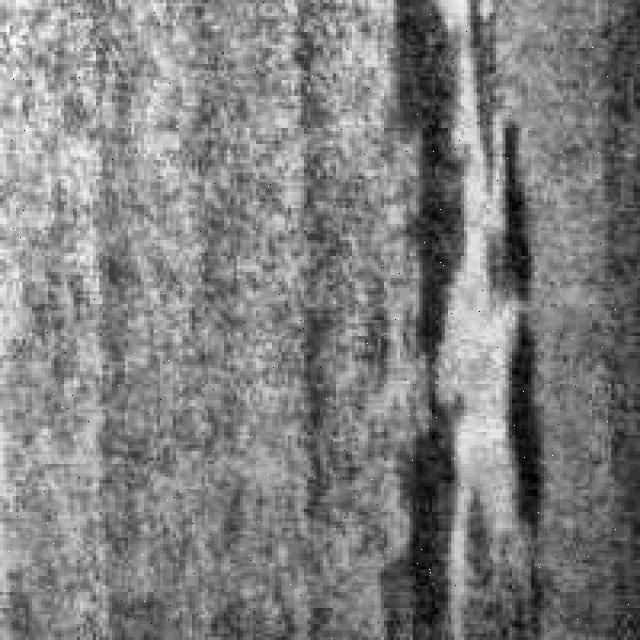Patches: (381, 0, 557, 634)
